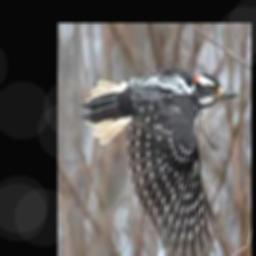Woodpecker: (80, 66, 238, 256)
